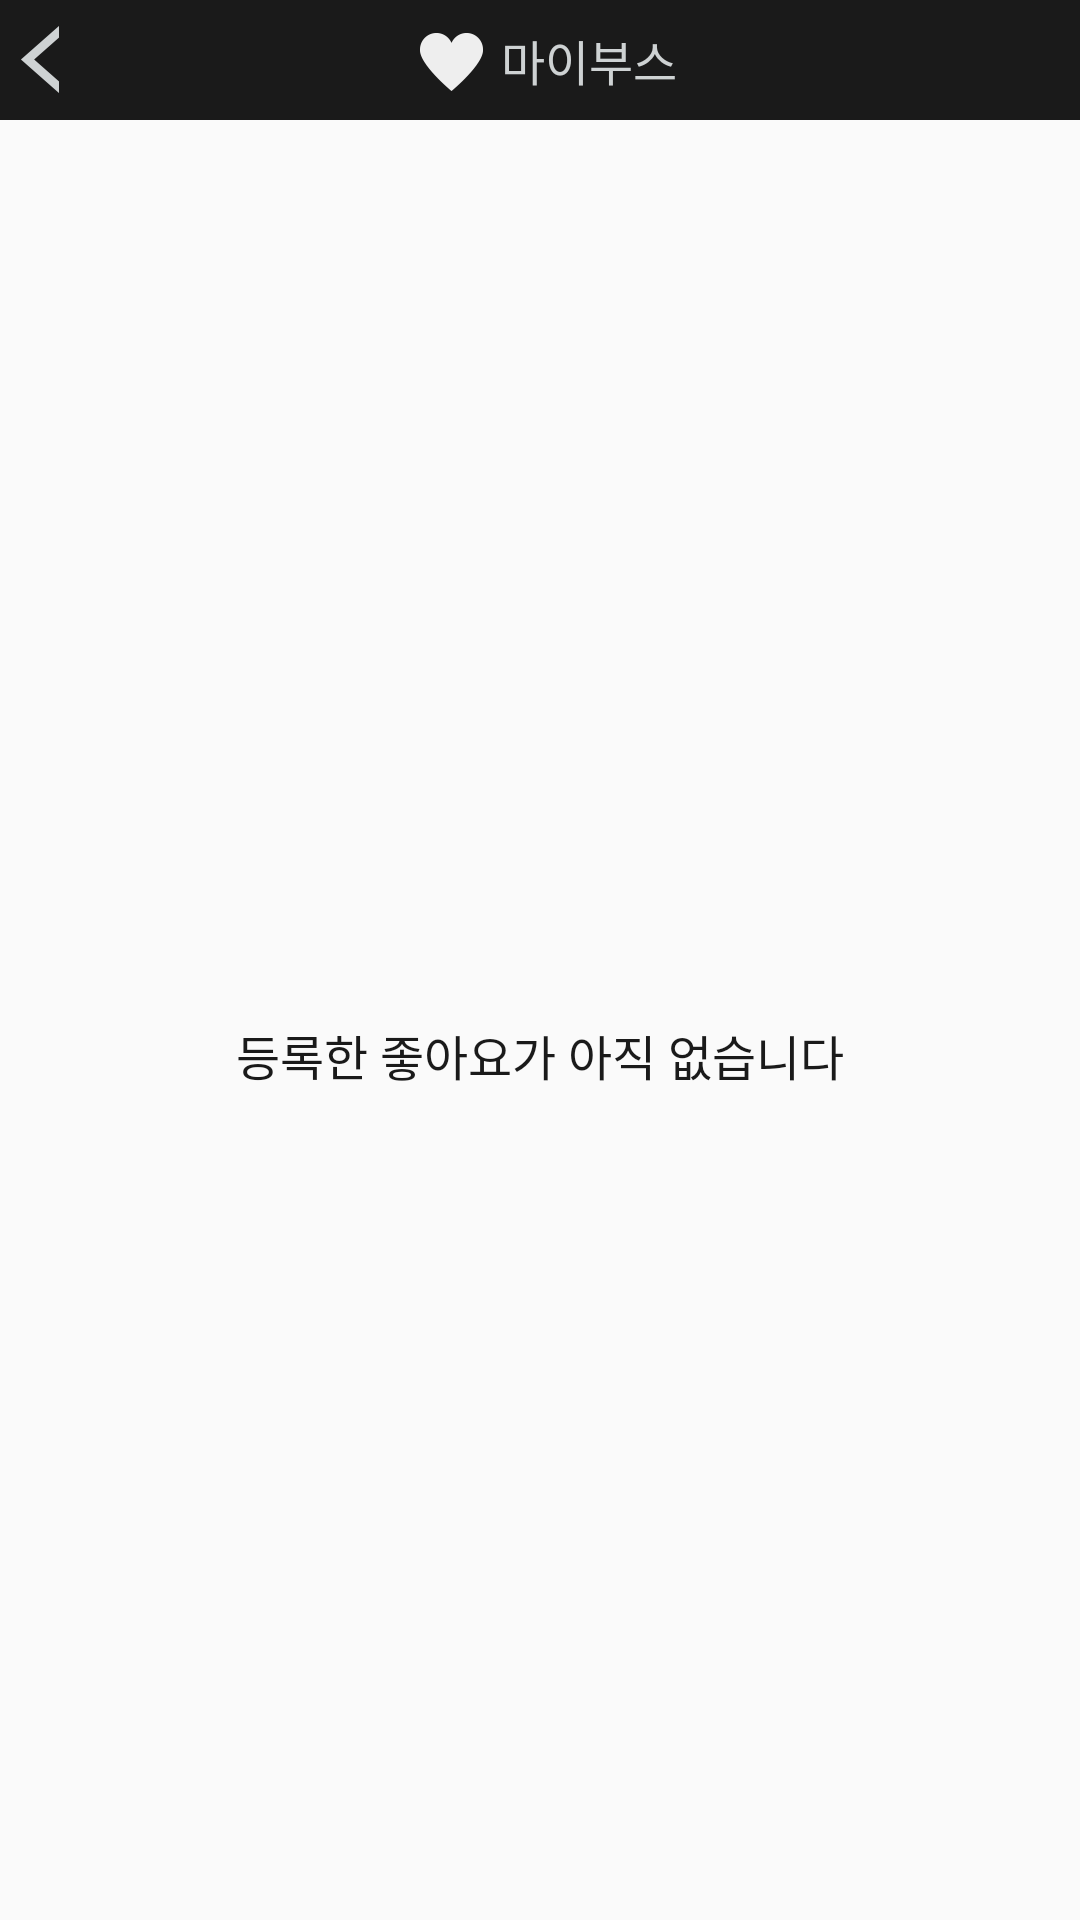

Where to tap for icons on this 1080*1920 app screen, as (x=x, y=y):
activity back: (x=40, y=59)
hart: (x=451, y=62)
